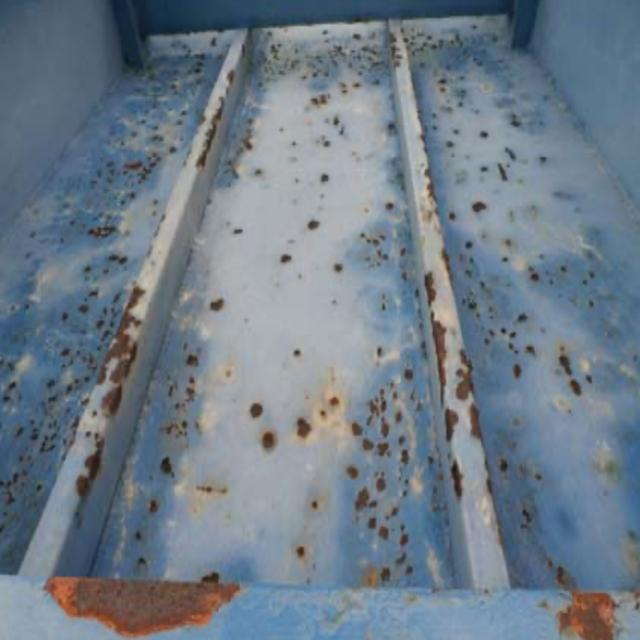corrosion: (63, 21, 617, 640)
